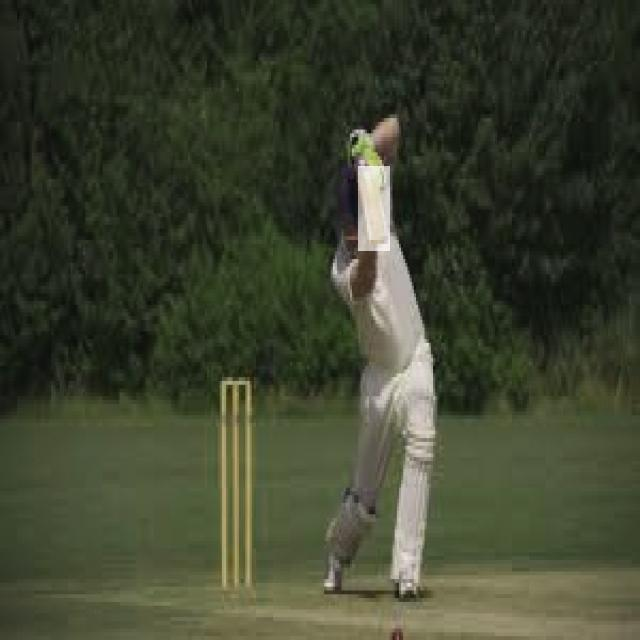bat: (358, 164, 392, 253)
toe: (361, 236, 390, 250)
